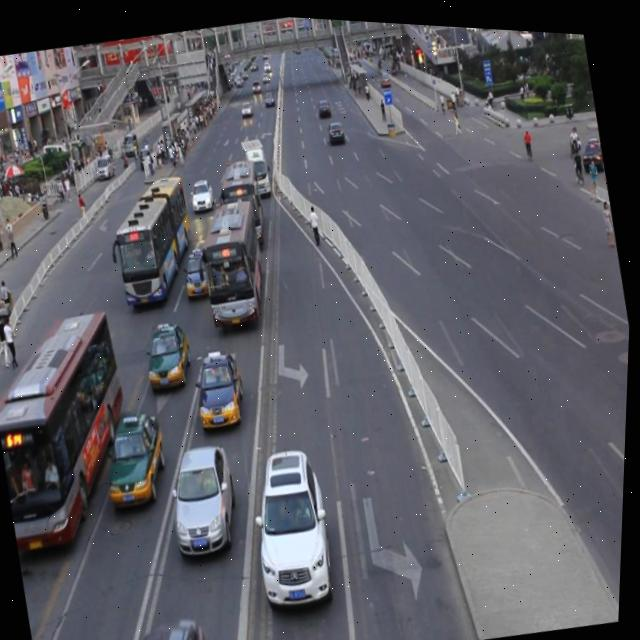bus: (239, 133, 275, 197)
car: (243, 438, 348, 608), (164, 436, 250, 557), (100, 407, 178, 507), (191, 343, 251, 423), (142, 314, 199, 388), (123, 614, 219, 640), (181, 245, 214, 295), (189, 175, 218, 211), (247, 142, 269, 172)
van: (0, 300, 157, 556), (102, 168, 205, 309), (192, 193, 276, 328), (212, 154, 270, 246)
